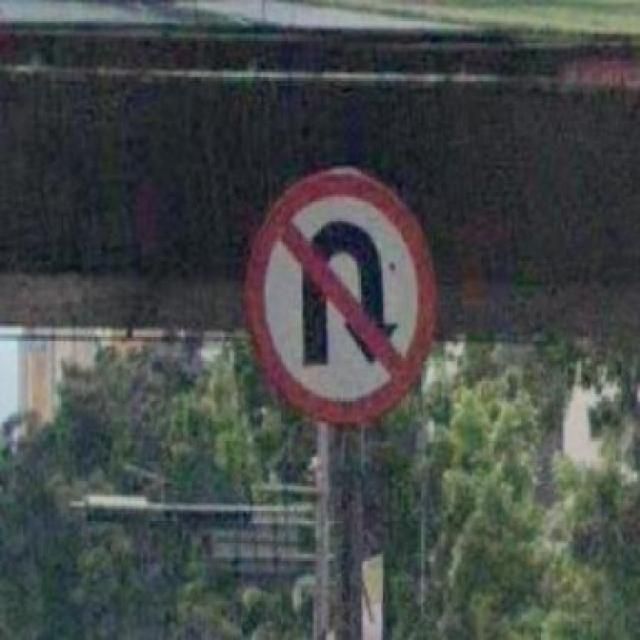u turn prohibited: (245, 161, 442, 425)
